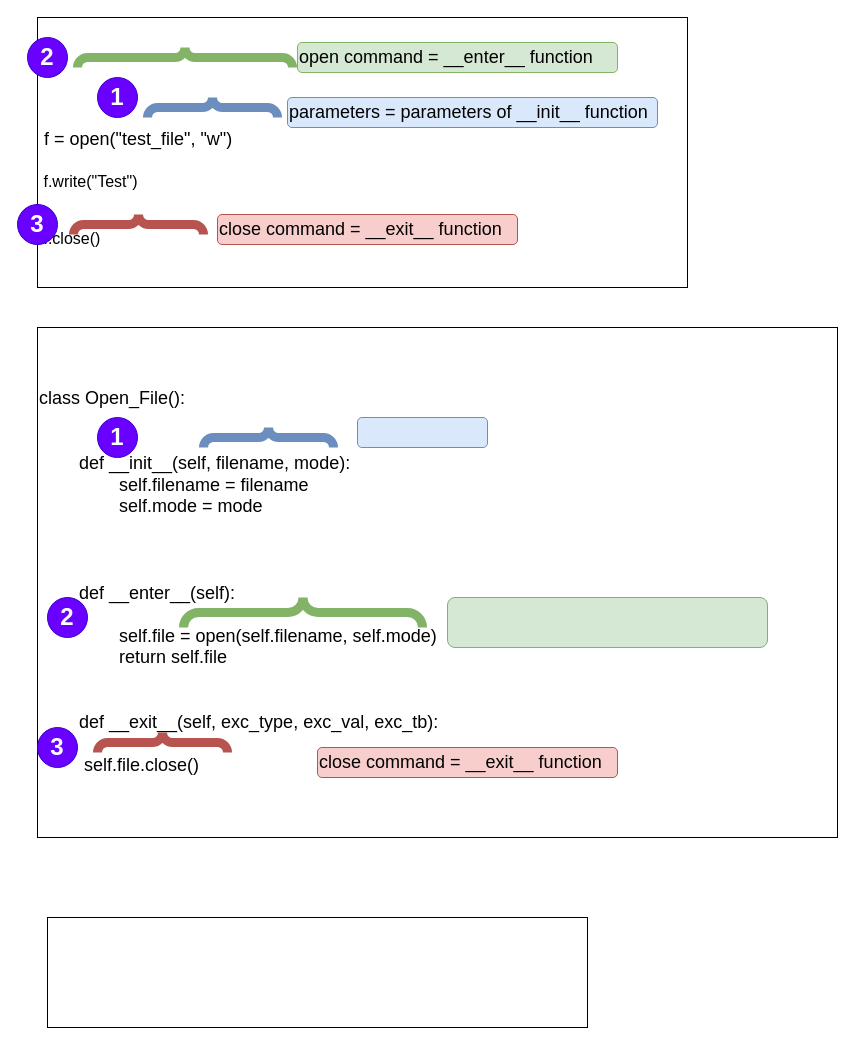
This 855x1045 diagram has some shape labels left out. Each missing label, with the centre of its shape:
init parameters: pixel 422 432
open command = __enter__ function, wth the return command: pixel 607 622
with Open_File("test_file", "w") as f: f.write("from context manager class\n"): pixel 317 972
